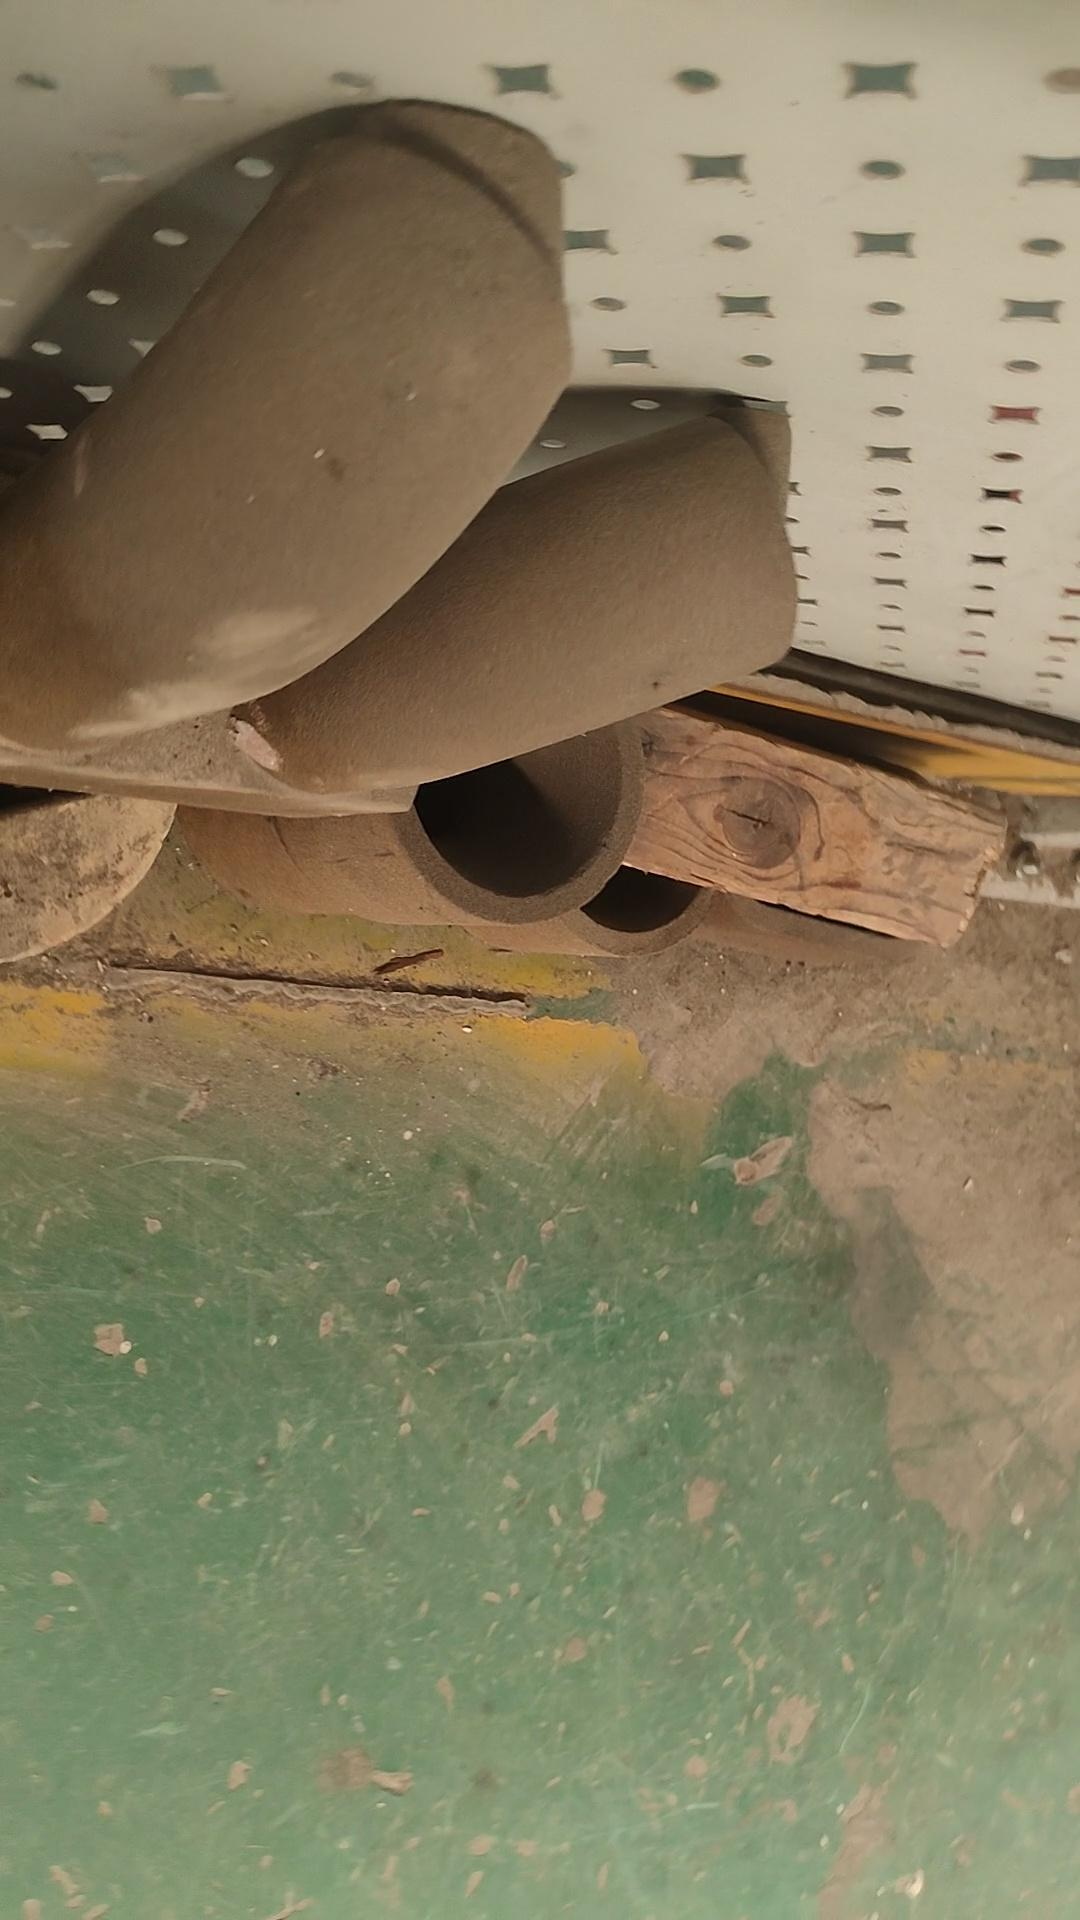pouring hole: (411, 674, 624, 891), (558, 746, 708, 934)
